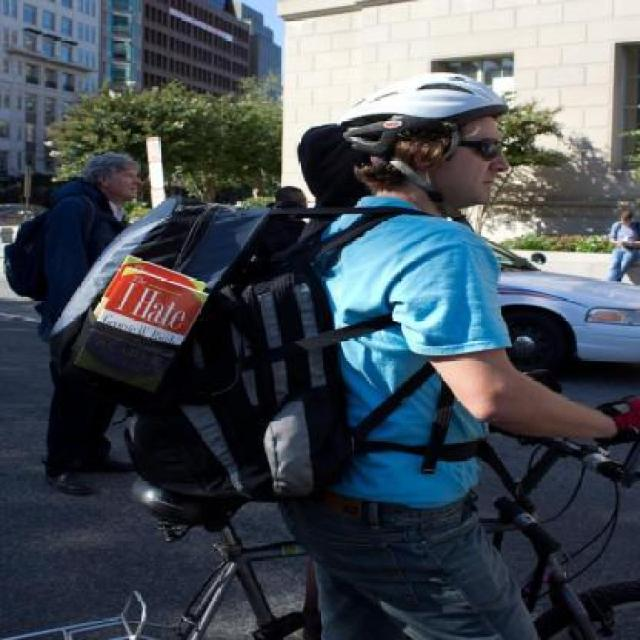backpack: (49, 190, 358, 508)
